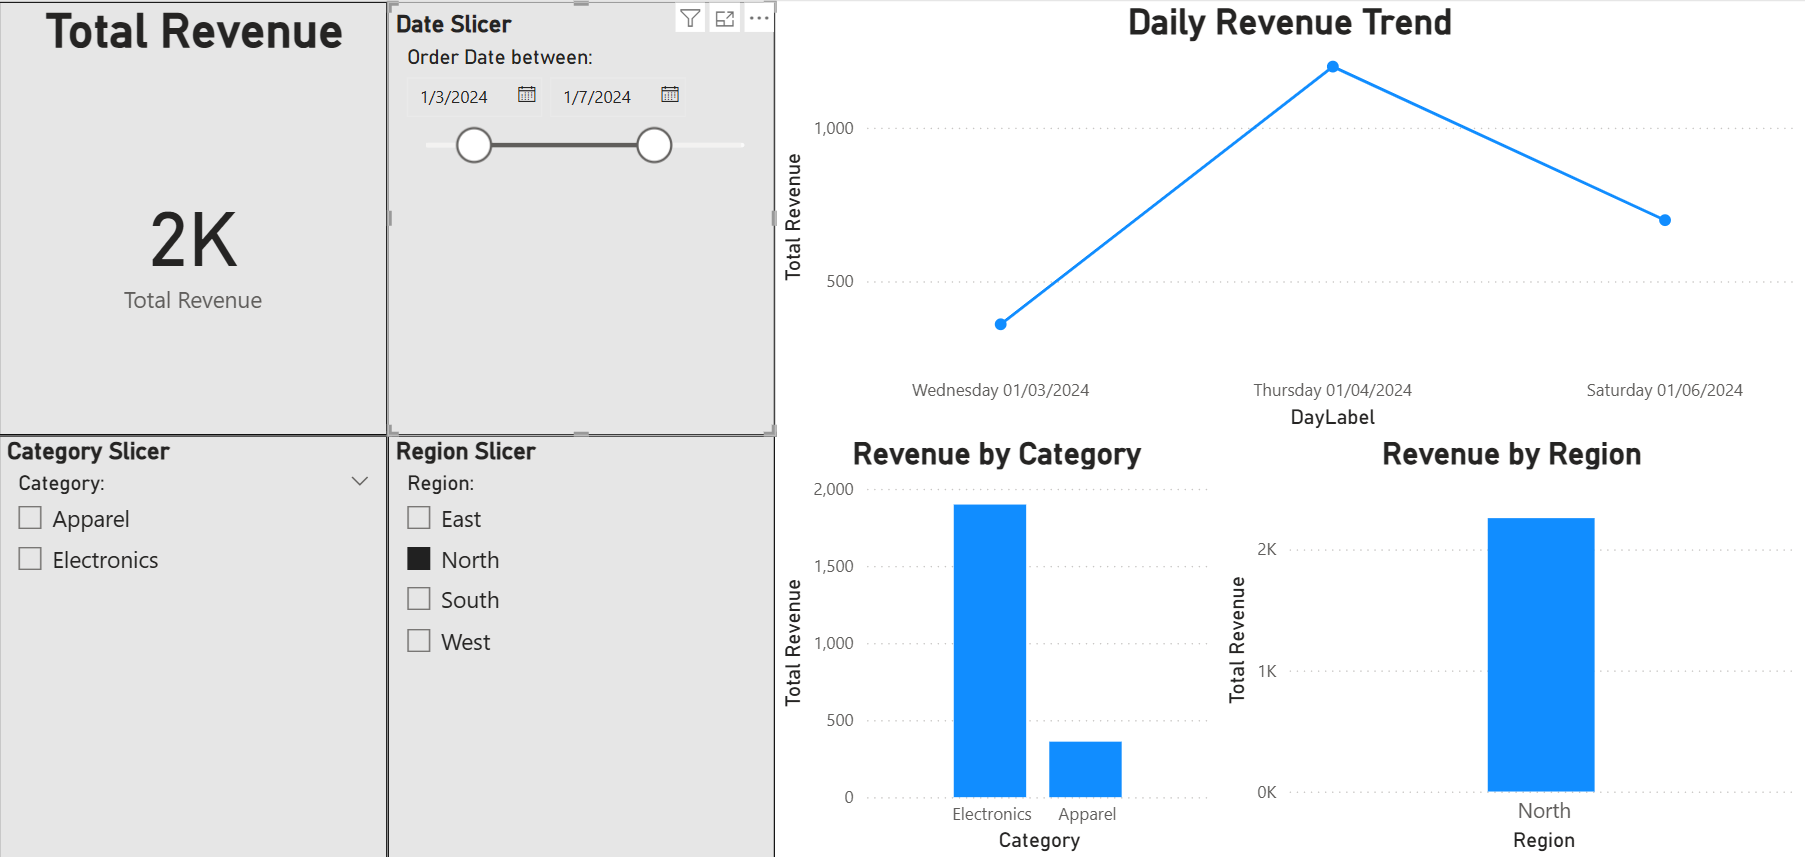

The dashboard page shown, as its layout file describes it:
{"tool":"powerbi","page":{"name":"Page 1","canvas":[1280,720],"ordinal":0},"visuals":[{"type":"card","title":"Total Revenue","fields":{"Values":["public sales_data.Total Revenue"]},"box":[0,112.5,275.5,307.4],"z":0},{"type":"columnChart","title":"Revenue by Region","fields":{"Category":["public sales_data.region"],"Y":["public sales_data.Total Revenue"]},"box":[864.7,419.9,415.5,300.3],"z":1000},{"type":"columnChart","title":"Revenue by Category","fields":{"Category":["public sales_data.category"],"Y":["public sales_data.Total Revenue"]},"box":[550.2,419.9,314.5,300.3],"z":2000},{"type":"lineChart","title":"Daily Revenue Trend","fields":{"Y":["public sales_data.Total Revenue"],"Category":["public sales_data.DayLabel"]},"box":[550.2,112.5,730,307.4],"z":3000},{"type":"slicer","title":"Date Slicer","fields":{"Values":["public sales_data.order_date"]},"box":[275.5,112.5,274.6,307.4],"z":4000},{"type":"slicer","title":"Region Slicer","fields":{"Values":["public sales_data.region"]},"box":[275.5,419.9,274.6,300.3],"z":5000},{"type":"slicer","title":"Category Slicer","fields":{"Values":["public sales_data.category"]},"box":[0,419.9,275.5,300.3],"z":6000},{"type":"shape","box":[0,9.7,1280.2,102.8],"z":7000},{"type":"textbox","box":[13.3,20.4,1251.8,76.2],"z":8000}]}

Visuals, with their boxes on the page's 1280x720 design canvas (x1, y1, x2, y2). These are canvas units, not pixel positions in the 1805x857 screenshot, which may show the page scaled, cropped or inside an application window:
"Total Revenue" card: 0 112 276 420
"Revenue by Region" columnChart: 865 420 1280 720
"Revenue by Category" columnChart: 550 420 865 720
"Daily Revenue Trend" lineChart: 550 112 1280 420
"Date Slicer" slicer: 276 112 550 420
"Region Slicer" slicer: 276 420 550 720
"Category Slicer" slicer: 0 420 276 720
shape: 0 10 1280 112
textbox: 13 20 1265 97
